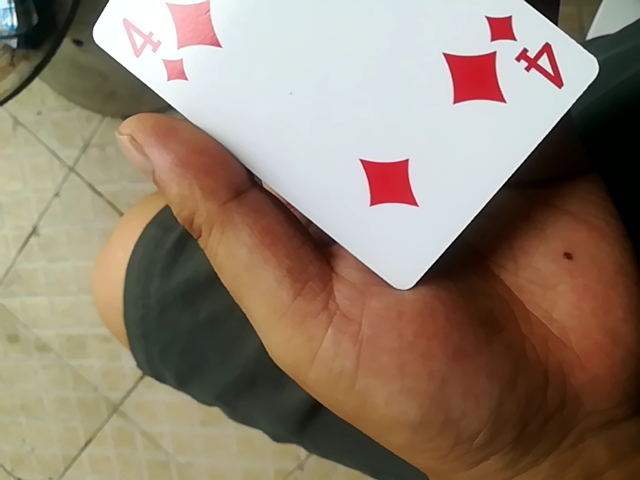fk 4: (73, 0, 609, 302)
